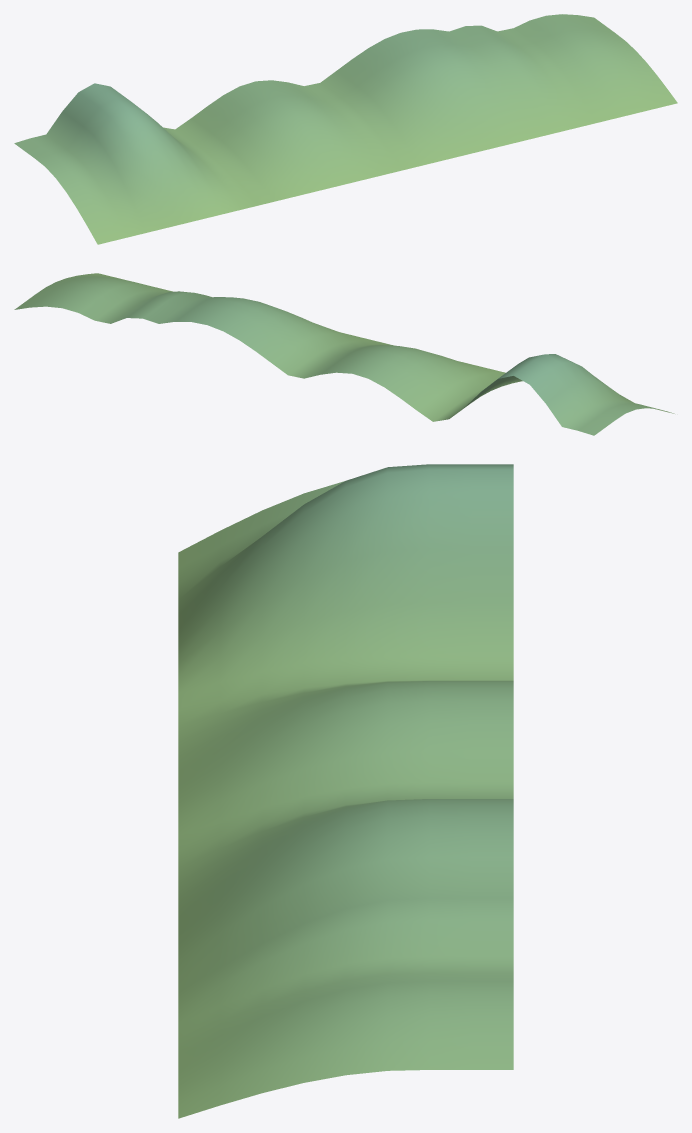
File: hills_near.glb
The picture shows the model from 3 angles, top to bottom: view 1: azimuth 30°, elevation 25°; view 2: azimuth 150°, elevation 25°; view 3: azimuth 270°, elevation 25°; orthographic projection. The views are drawn at different scales.
Visible parts, largest first — view 1: Hills_Near_Mass; view 2: Hills_Near_Mass; view 3: Hills_Near_Mass.
Boxes of the visible parts, x1=… form: Hills_Near_Mass: x1=14, y1=14, x2=677, y2=244; Hills_Near_Mass: x1=14, y1=273, x2=674, y2=435; Hills_Near_Mass: x1=178, y1=464, x2=513, y2=1118.
Bounding box in the file's own units: 120 × 15.93 × 30.
